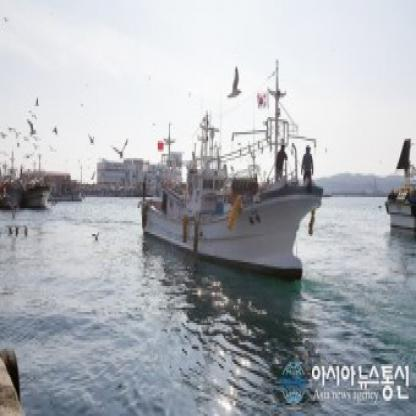fish-b: (139, 117, 333, 299)
